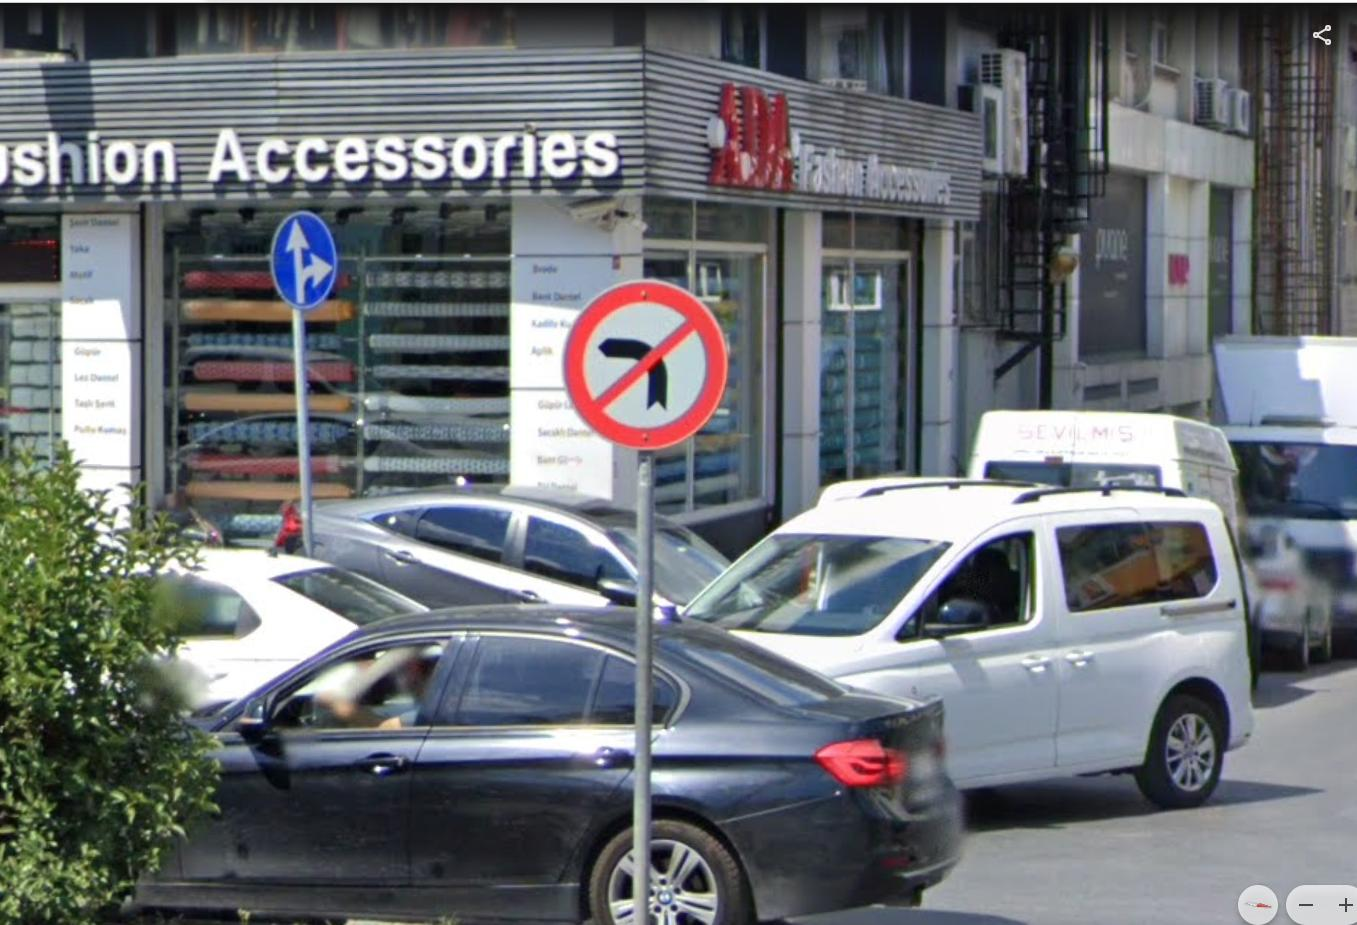leftturnsareforbidden: (550, 262, 755, 480)
